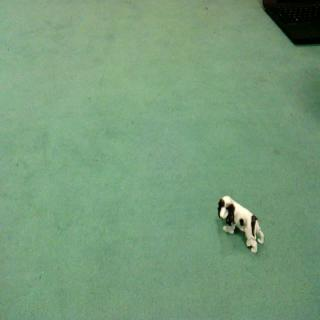dog: (213, 191, 269, 257)
